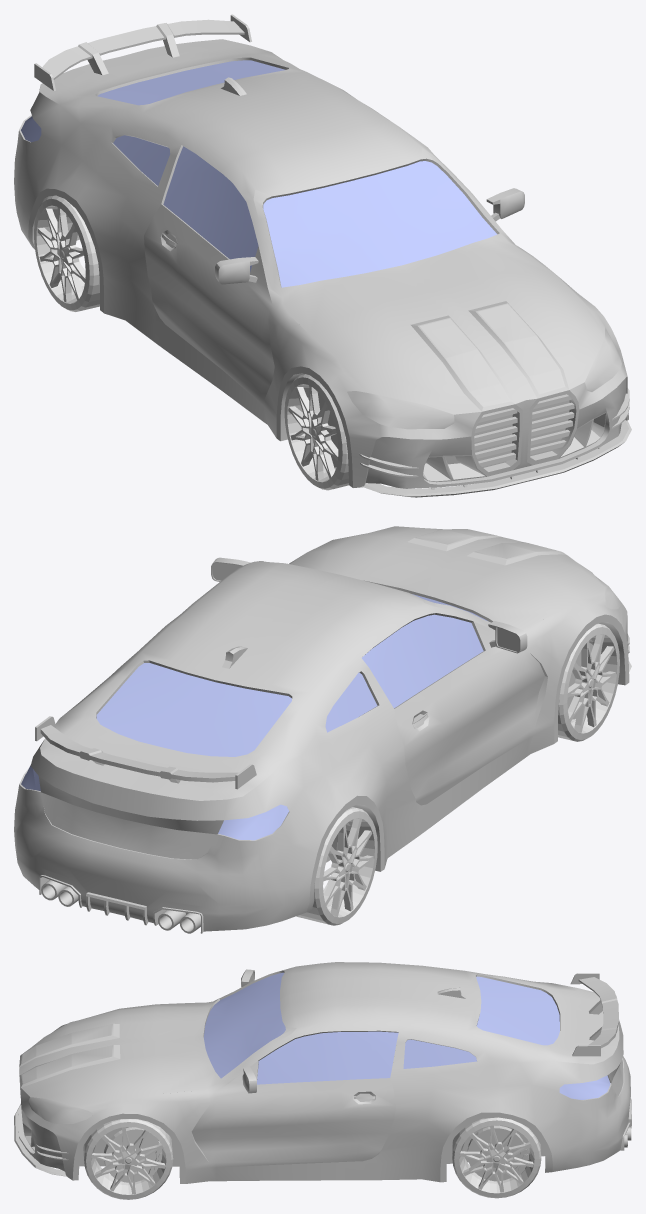
The model's file is BMW-M4.fbx.
3 renders of one model, top to bottom at view 1: azimuth 30°, elevation 25°; view 2: azimuth 150°, elevation 25°; view 3: azimuth 270°, elevation 25°, orthographic. The views are drawn at different scales.
Parts seen in each view (by area): view 1: body, body.001, body.006, Circle.001, Circle.007, body.009, body.004, body.005; view 2: body, body.004, body.006, Circle.001, Circle.007, body.005, body.007; view 3: body, body.002, body.001, Circle.003, Circle.005, body.004, Circle.006, body.003, Circle.004, body.009, body.008.
Part boxes in pixels (x1,y1,x2,y2): body: (14, 14, 631, 497); body.001: (263, 161, 497, 287); body.006: (163, 146, 258, 271); Circle.001: (34, 195, 99, 311); Circle.007: (284, 374, 348, 490); body.009: (347, 327, 621, 429); body.004: (97, 60, 285, 105); body.005: (113, 135, 170, 185); body: (14, 526, 631, 933); body.004: (96, 663, 291, 756); body.006: (362, 614, 483, 708); Circle.001: (296, 807, 377, 925); Circle.007: (558, 623, 619, 741); body.005: (325, 672, 377, 732); body.007: (218, 804, 288, 840); body: (14, 962, 631, 1183); body.002: (257, 1031, 398, 1084); body.001: (203, 972, 285, 1078); Circle.003: (83, 1119, 173, 1199); Circle.005: (452, 1117, 541, 1198); body.004: (476, 976, 559, 1045); Circle.006: (467, 1125, 528, 1181); body.003: (403, 1039, 476, 1068); Circle.004: (104, 1127, 162, 1182); body.009: (28, 1024, 94, 1123); body.008: (559, 1075, 610, 1099).
Bounding box in the file's own units: 1283 × 864 × 2977.
